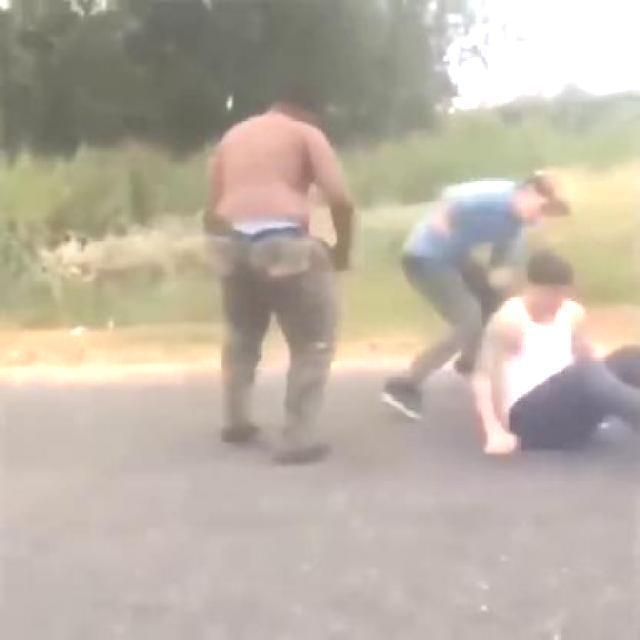fight: (392, 168, 640, 466)
